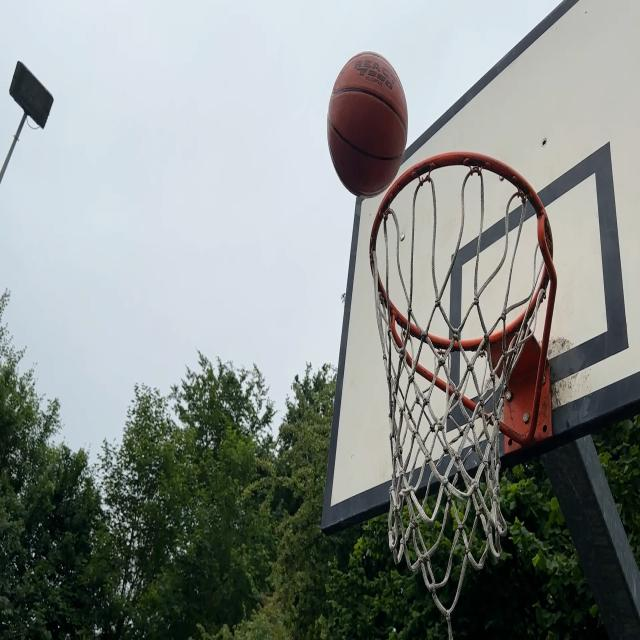Basketball: (329, 51, 409, 194)
